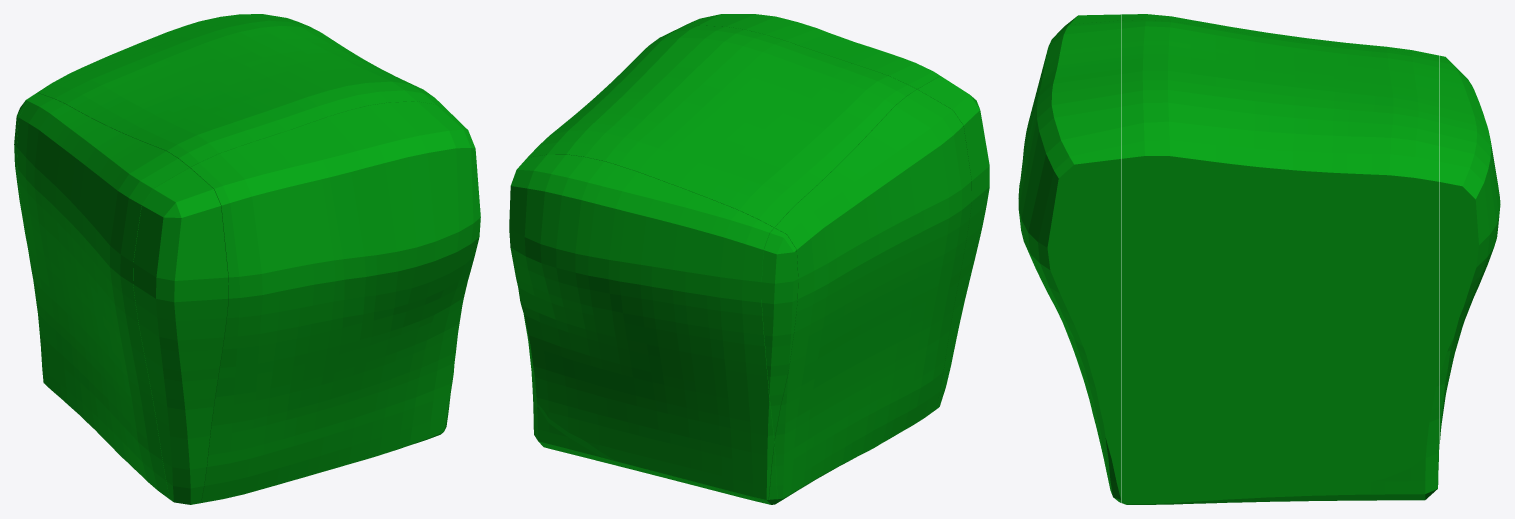
Rendered from 4by10beveledsubdivided.020.fbx.
The picture shows the model from 3 angles, left to right: view 1: azimuth 30°, elevation 25°; view 2: azimuth 150°, elevation 25°; view 3: azimuth 270°, elevation 25°; orthographic projection. The views are drawn at different scales.
Visible parts, largest first — view 1: 4by10beveledsubdivided.020; view 2: 4by10beveledsubdivided.020; view 3: 4by10beveledsubdivided.020.
Boxes of the visible parts, x1,y1,x2,y2 form: 4by10beveledsubdivided.020: (14, 14, 480, 504); 4by10beveledsubdivided.020: (509, 14, 989, 504); 4by10beveledsubdivided.020: (1018, 14, 1500, 504).
Size of the model in its own units: 245 by 261 by 304.
